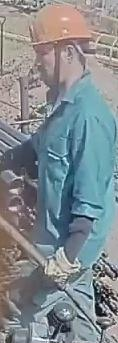gloves: (42, 246, 81, 290)
helmet: (28, 3, 95, 53)
vest: (32, 75, 118, 245)
